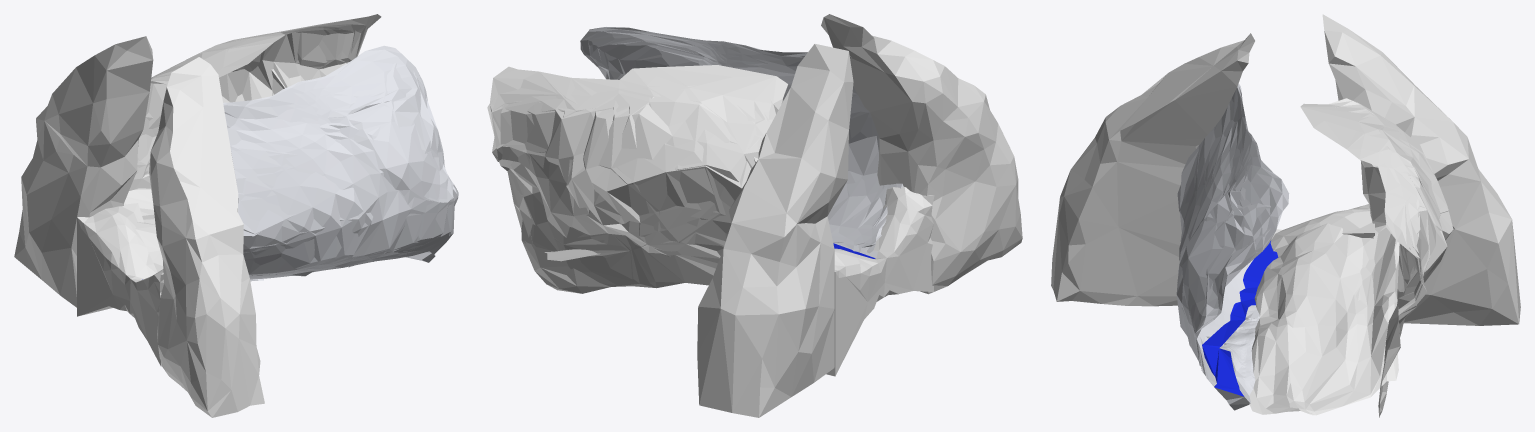
Rendered from cave2Save.fbx.
The picture shows the model from 3 angles, left to right: view 1: azimuth 30°, elevation 25°; view 2: azimuth 150°, elevation 25°; view 3: azimuth 270°, elevation 25°; orthographic projection. The views are drawn at different scales.
Visible parts, largest first — view 1: Wall1.001, Zange, Zange.001, Wall1, Cube, Floor; view 2: Wall1, Zange.001, Zange, Wall1.001, Cube; view 3: Zange, Floor, Wall1.001, Zange.001, Wall1, Cube.
Part boxes in pixels (x1,y1,x2,y2): Wall1.001: (142, 45, 458, 281); Zange: (149, 57, 264, 417); Zange.001: (14, 36, 153, 307); Wall1: (129, 14, 381, 190); Cube: (77, 203, 163, 366); Floor: (99, 188, 163, 271); Wall1: (487, 65, 787, 293); Zange.001: (697, 44, 853, 417); Zange: (821, 14, 1022, 294); Wall1.001: (580, 27, 903, 258); Cube: (826, 186, 934, 376); Zange: (1051, 33, 1254, 306); Floor: (1249, 209, 1399, 415); Wall1.001: (1176, 83, 1289, 410); Zange.001: (1322, 14, 1520, 325); Wall1: (1300, 98, 1453, 417); Cube: (1270, 204, 1374, 256).
Bounding box in the file's own units: 4783 × 3801 × 5462.
